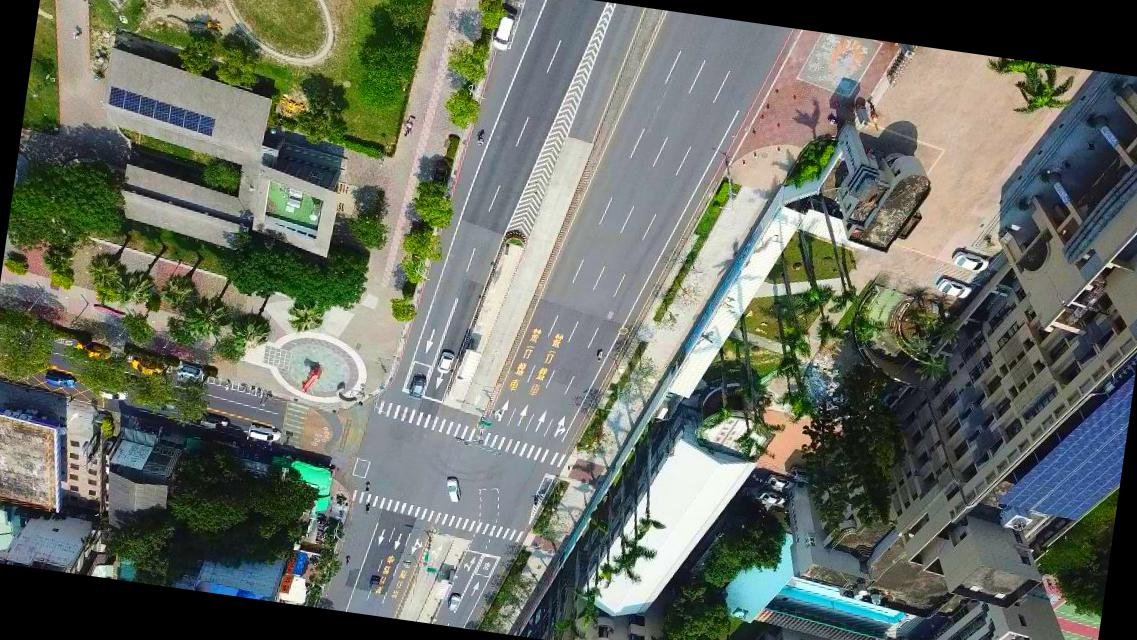vehicle: (492, 6, 517, 51), (950, 246, 988, 274), (935, 278, 973, 300), (77, 342, 112, 364), (246, 422, 282, 443), (198, 410, 232, 432), (127, 356, 161, 378), (42, 370, 75, 390), (442, 476, 463, 506), (766, 471, 796, 492), (96, 385, 128, 403), (146, 395, 176, 414), (436, 347, 454, 376), (790, 464, 813, 484), (758, 492, 790, 506), (408, 376, 426, 399), (364, 572, 382, 594), (448, 594, 460, 612)
